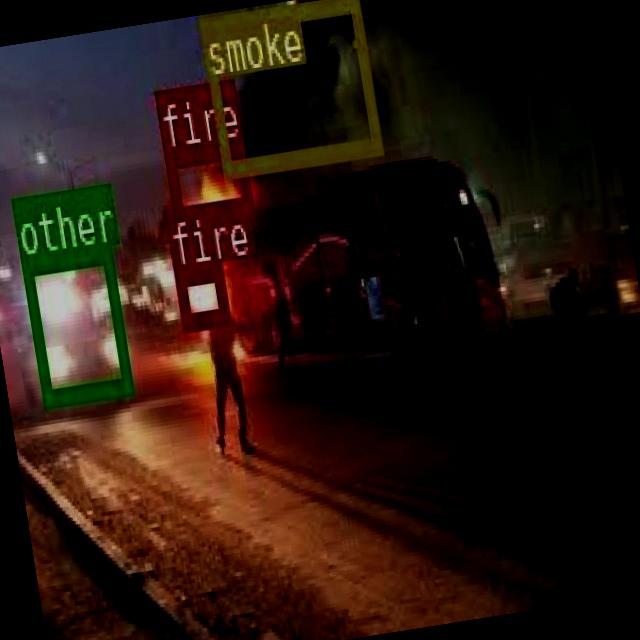fire: (162, 138, 253, 230), (172, 261, 228, 328)
smoke: (197, 0, 380, 176)
